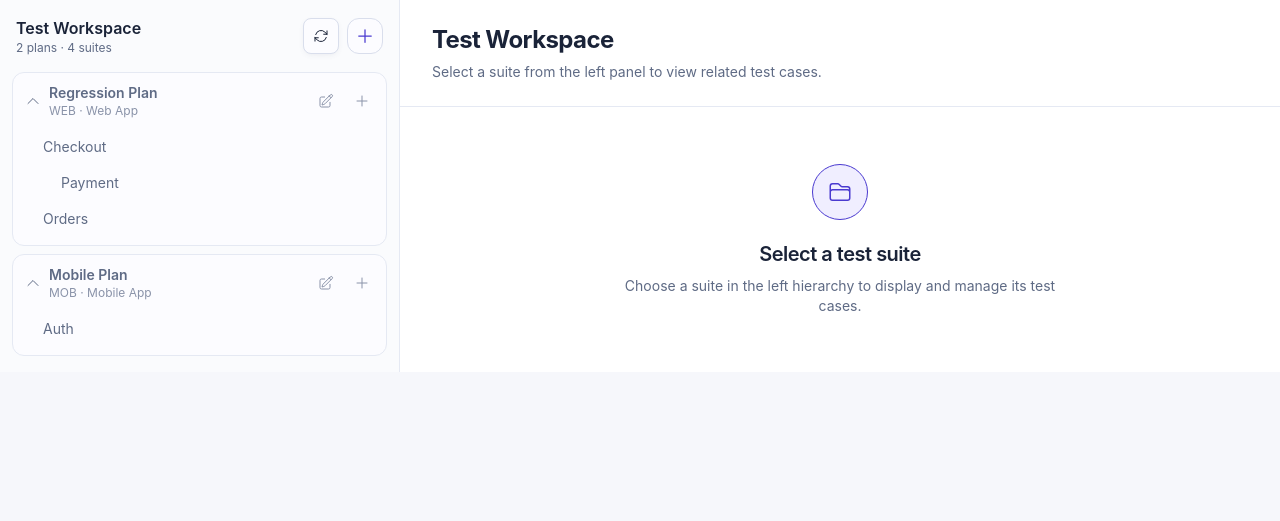
Test: TestManagementWorkspace › renames suite inline with Enter using PUT and trimmed name
The image size is (1280, 521).
Double-click the button "Payment" at point(90, 182), box [13,165,386,201]
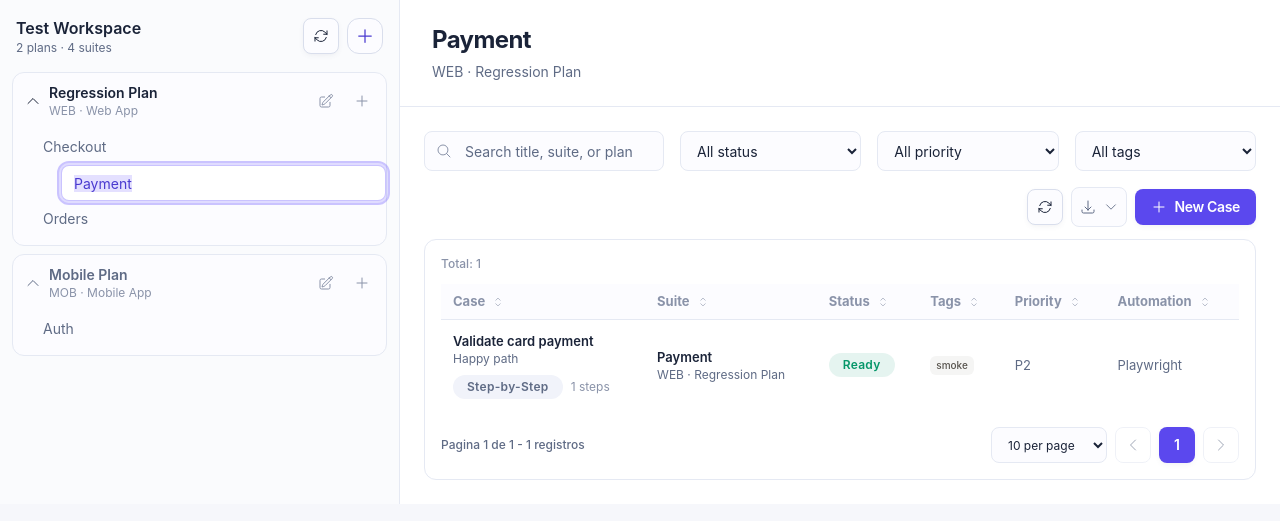
Replace the text in the field named "Edit suite name" with "  Payments Updated  " at point(224, 183), box [61,165,386,201]
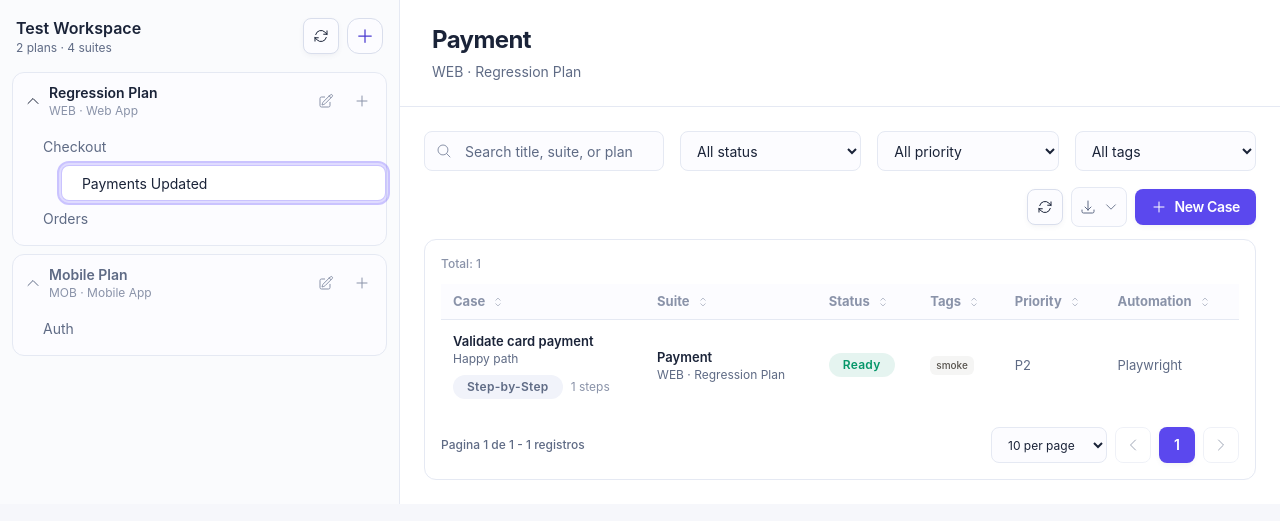
Press Enter in the field named "Edit suite name", box [61,165,386,201]
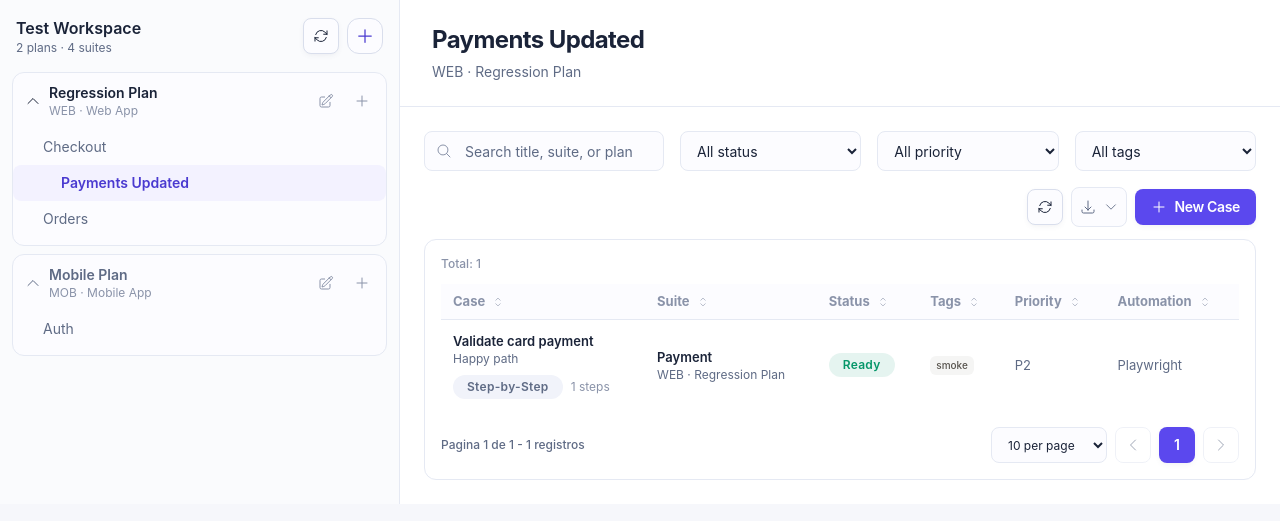
Now the button "Payments Updated" is shown, box [13,165,386,201]
Now the heading "Payments Updated" is shown, box [432,24,644,56]
